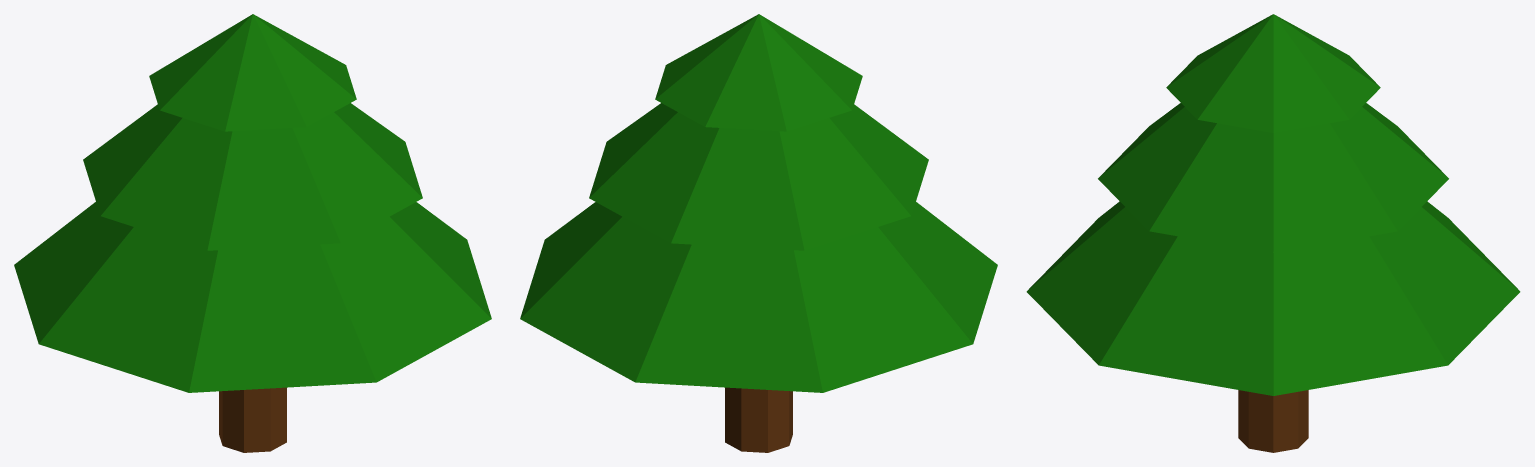
The model's file is Baum.fbx.
The picture shows the model from 3 angles, left to right: view 1: azimuth 30°, elevation 25°; view 2: azimuth 150°, elevation 25°; view 3: azimuth 270°, elevation 25°; orthographic projection.
Parts seen in each view (by area): view 1: Cylinder; view 2: Cylinder; view 3: Cylinder.
Boxes of the visible parts, x1,y1,x2,y2 form: Cylinder: (14, 14, 491, 452); Cylinder: (520, 14, 997, 452); Cylinder: (1026, 14, 1520, 452).
Size of the model in its own units: 612 by 579 by 612.
